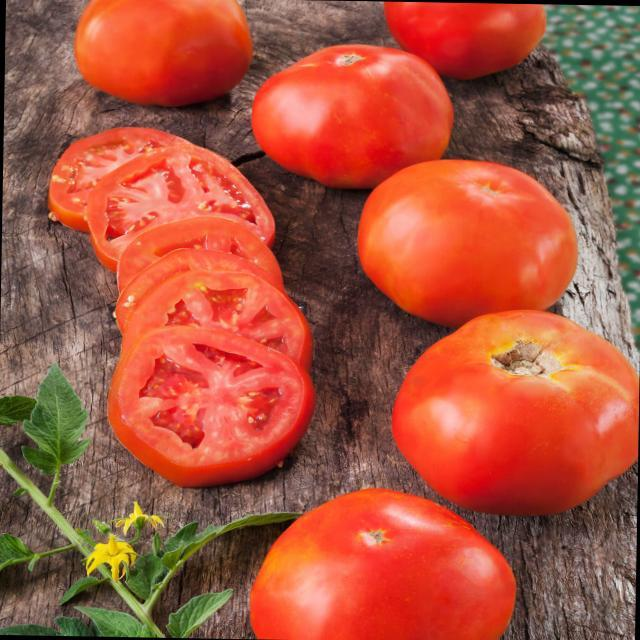TOMATO: (391, 305, 640, 519), (354, 157, 628, 317), (244, 489, 520, 640), (58, 122, 314, 258), (114, 334, 329, 481), (244, 40, 461, 185), (104, 211, 333, 306), (76, 152, 303, 247), (128, 250, 326, 353), (67, 0, 250, 104), (378, 1, 564, 79)
